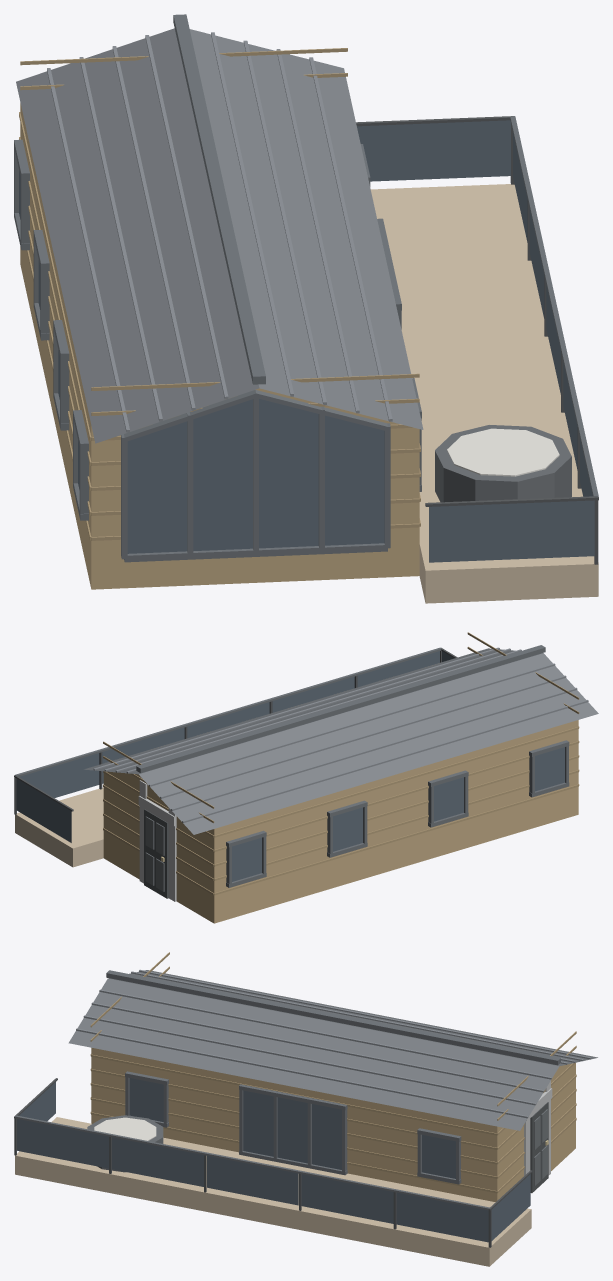
3 renders of one model, top to bottom at view 1: azimuth 30°, elevation 25°; view 2: azimuth 150°, elevation 25°; view 3: azimuth 270°, elevation 25°, orthographic. The views are drawn at different scales.
Parts seen in each view (by area): view 1: slate, larch, window_glass_013, slate_dk, door_wood, slate_lt, window_glass_006, window_glass_007, door_wood_p, band_dark, string, pipe (+1 smaller); view 2: slate, door_wood, slate_dk, slate_lt, door_wood_p, larch, window_glass_005, window_glass_007, stone_band, door_dark_p, window_glass_016, window_glass_017 (+8 smaller); view 3: slate, door_wood, larch, slate_dk, slate_lt, door_wood_p, window_glass_004, window_glass_005, window_glass_003, window_glass_001, window_glass_002, window_glass_008 (+12 smaller).
Part boxes in pixels (x1,y1,x2,y2): slate: (16,28,423,443); larch: (370,184,598,603); window_glass_013: (127,399,384,553); slate_dk: (14,14,598,562); door_wood: (20,103,419,589); slate_lt: (47,32,392,432); window_glass_006: (429,500,594,562); window_glass_007: (357,120,510,181); door_wood_p: (19,48,420,540); band_dark: (435,425,571,502); string: (447,428,559,476); pipe: (356,116,598,564); slate: (84,648,598,834); door_wood: (103,720,578,923); slate_dk: (15,645,569,887); slate_lt: (93,647,588,822); door_wood_p: (103,632,579,895); larch: (15,787,103,867); window_glass_005: (19,753,99,797); window_glass_007: (16,778,71,842); stone_band: (138,780,176,901); door_dark_p: (145,816,164,891); window_glass_016: (434,777,463,821); window_glass_017: (535,747,564,791); slate: (68,970,597,1130); door_wood: (91,1047,575,1202); larch: (15,1117,531,1266); slate_dk: (15,970,560,1210); slate_lt: (76,969,591,1118); door_wood_p: (90,952,576,1193); window_glass_004: (301,1174,393,1223); window_glass_005: (396,1192,488,1242); window_glass_003: (207,1155,298,1205); window_glass_001: (17,1119,108,1168); window_glass_002: (112,1137,203,1186); window_glass_008: (243,1090,273,1156).
Size of the model in its own units: 11.41 by 3.42 by 13.95.
